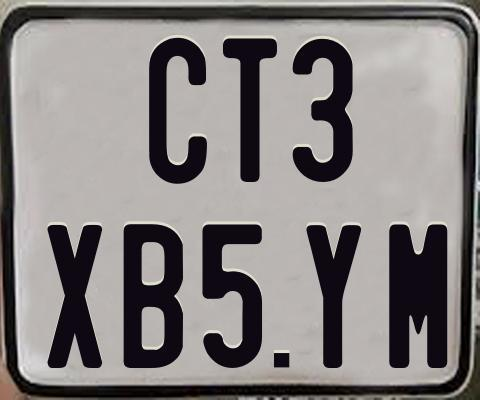3: (290, 38, 353, 187)
5: (201, 223, 262, 372)
B: (120, 223, 180, 371)
C: (149, 35, 207, 184)
M: (388, 222, 449, 371)
T: (220, 37, 277, 185)
X: (46, 222, 107, 366)
Y: (303, 224, 363, 367)
